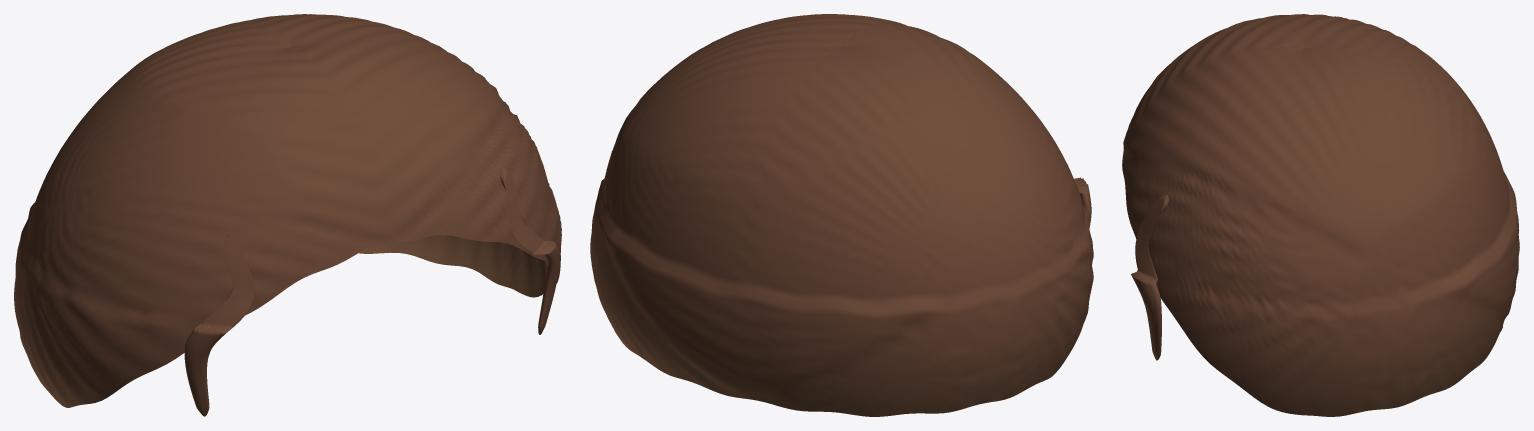
File: Ombre-a17a6822dc38253-hair.glb
The picture shows the model from 3 angles, left to right: view 1: azimuth 30°, elevation 25°; view 2: azimuth 150°, elevation 25°; view 3: azimuth 270°, elevation 25°; orthographic projection. The views are drawn at different scales.
Visible parts, largest first — view 1: 226 hair / Hair / chestnut226.002; view 2: 226 hair / Hair / chestnut226.002; view 3: 226 hair / Hair / chestnut226.002.
Boxes of the visible parts, bbox=[...] form: 226 hair / Hair / chestnut226.002: bbox=[14, 14, 561, 416]; 226 hair / Hair / chestnut226.002: bbox=[590, 14, 1093, 416]; 226 hair / Hair / chestnut226.002: bbox=[1122, 14, 1519, 416].
Size of the model in its own units: 0.9981 by 0.5988 by 0.7846.
Materials: 1 (1 with a texture image).
